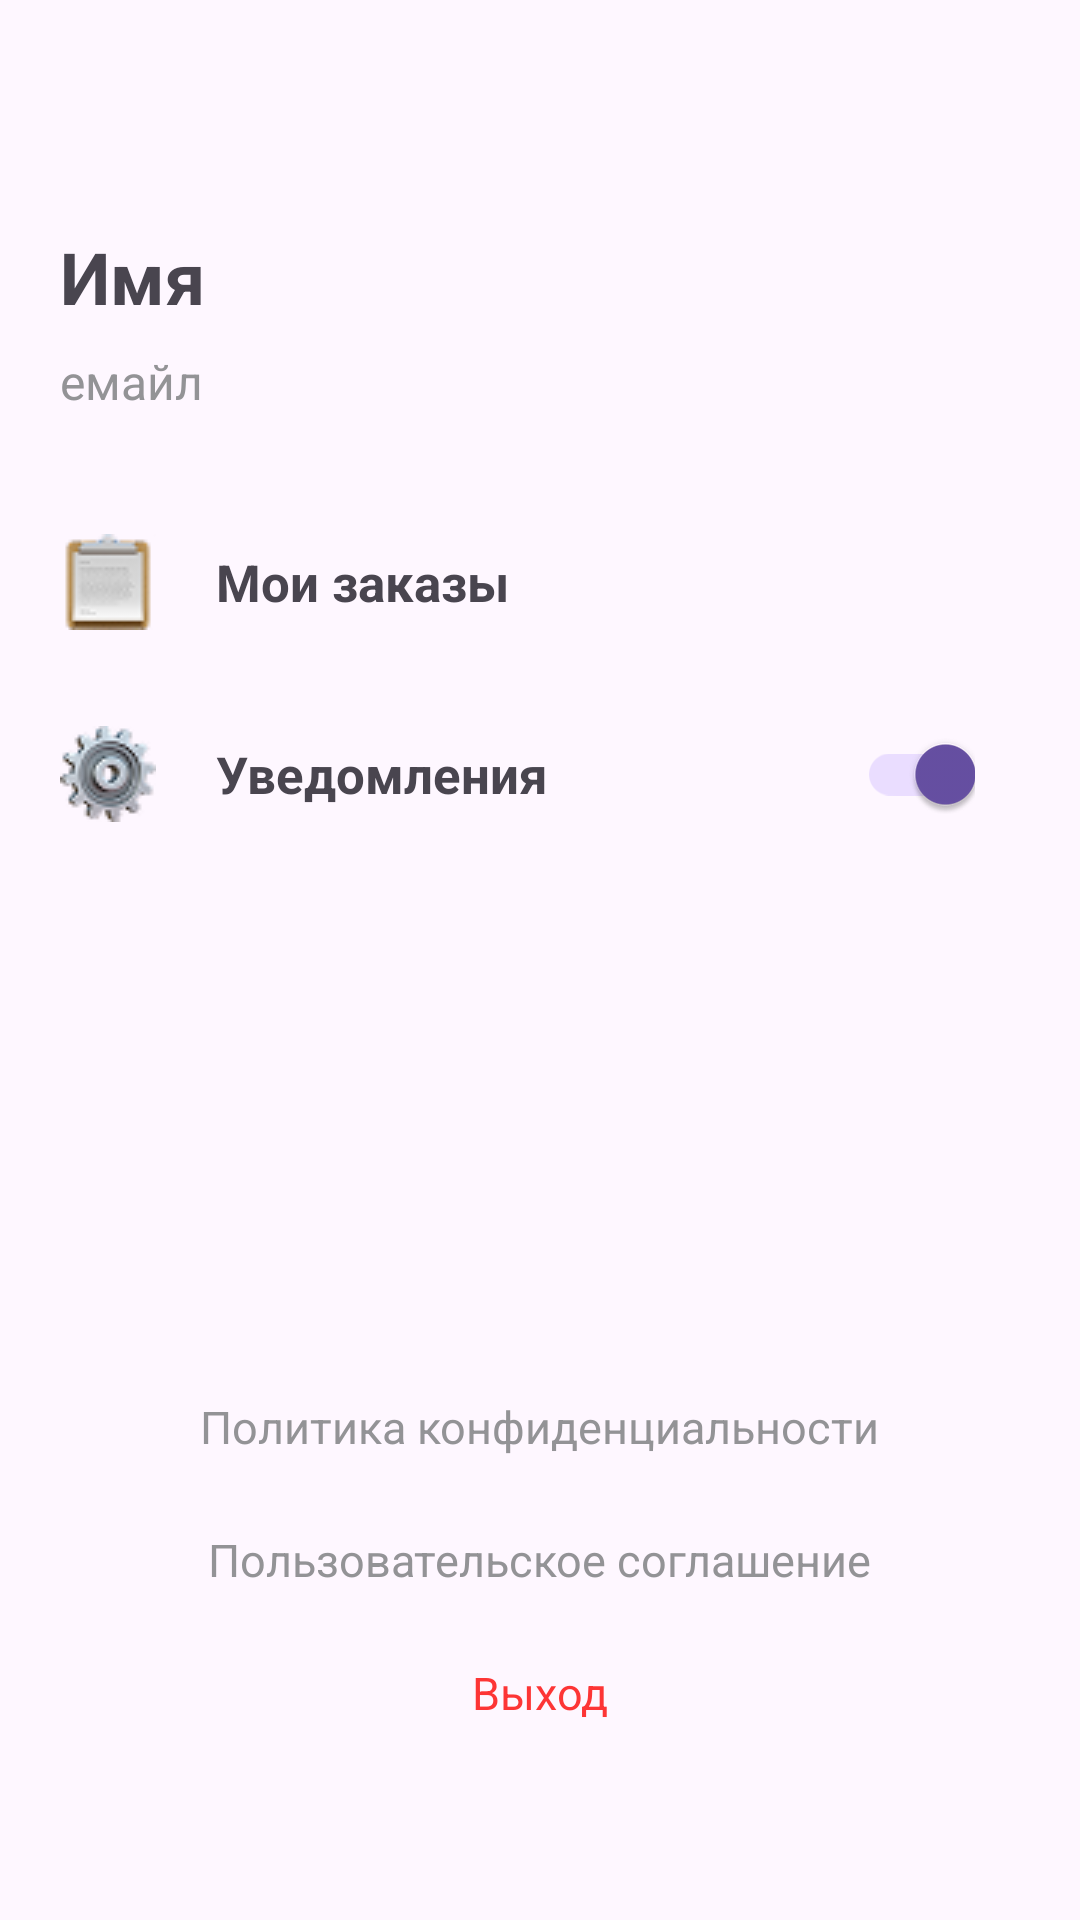

Where icons sit on this 1080 × 1920 app screen, as [x1=x1, y1=y1, x2=x2, y2=y2]:
order: [x1=65, y1=534, x2=151, y2=630]
settings: [x1=60, y1=726, x2=156, y2=822]
